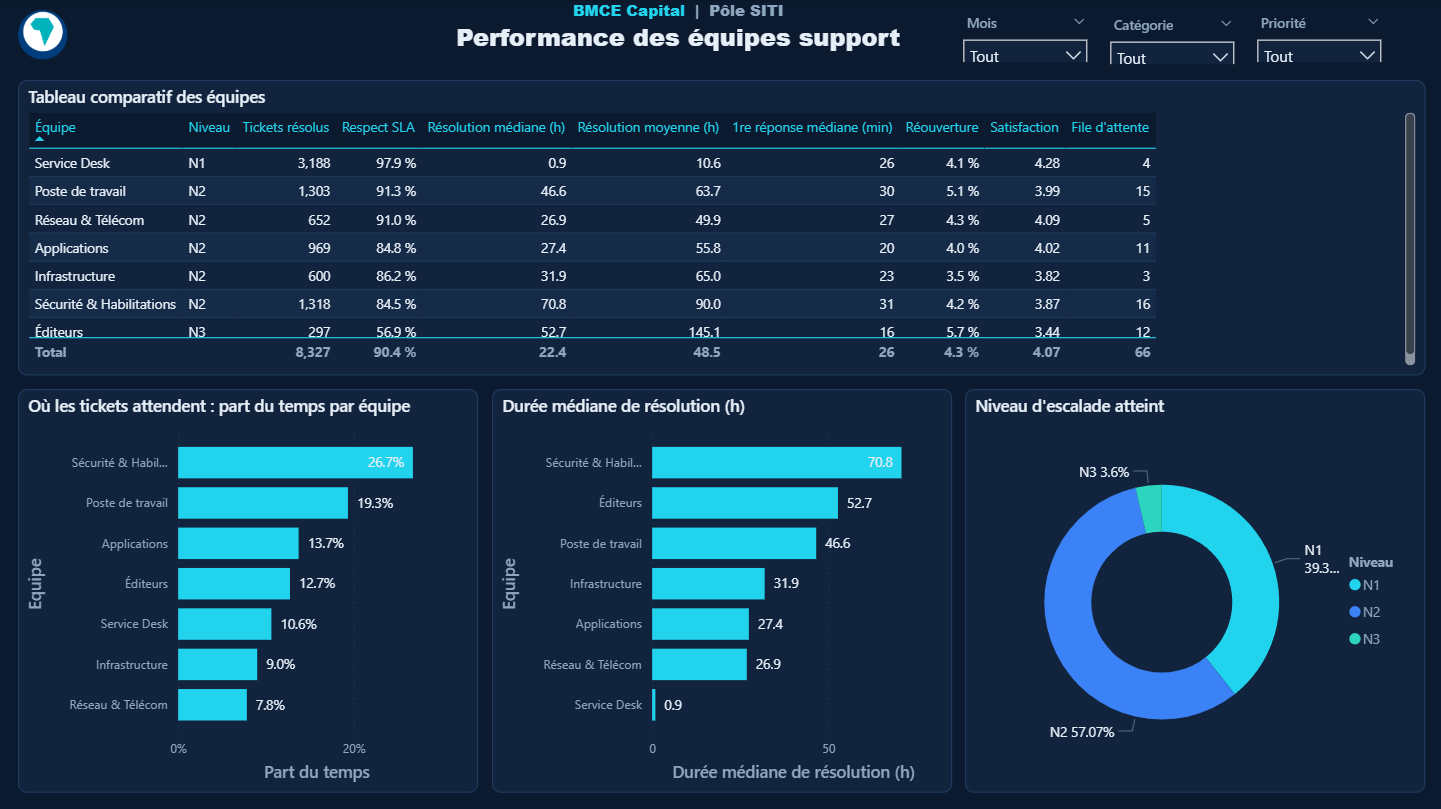

The dashboard page shown, as its layout file describes it:
{"tool":"powerbi","page":{"name":"Performance des équipes","canvas":[1280,720],"ordinal":1},"visuals":[{"type":"image","box":[16,10,44,44],"z":0},{"type":"textbox","box":[371.9,0,459.7,68],"z":1000},{"type":"slicer","fields":{"Values":["Dim_Date.mois_annee"]},"box":[843.9,8.2,130.4,48],"z":2000},{"type":"slicer","fields":{"Values":["Dim_Categorie.categorie"]},"box":[974.3,9.6,130.4,48],"z":3000},{"type":"slicer","fields":{"Values":["Dim_Priorite.priorite"]},"box":[1104.6,8.2,130.4,48],"z":4000},{"type":"tableEx","title":"Tableau comparatif des équipes","fields":{"Values":["Dim_Equipe.equipe_courte","Dim_Equipe.niveau","Mesures.Tickets résolus","Mesures.Respect SLA %","Mesures.Durée médiane de résolution (h)","Mesures.Durée moyenne de résolution (h)","Mesures.Délai médian 1re réponse (min)","Mesures.Taux de réouverture %","Mesures.Satisfaction moyenne","Mesures.File d'attente"]},"box":[16,72,1248,262],"z":5000},{"type":"clusteredBarChart","title":"Où les tickets attendent : part du temps par équipe","fields":{"Category":["Dim_Equipe.equipe_courte"],"Y":["Mesures.Part du temps - tickets filtrés %"]},"box":[16,346,408,358],"z":6000},{"type":"clusteredBarChart","title":"Durée médiane de résolution (h)","fields":{"Category":["Dim_Equipe.equipe_courte"],"Y":["Mesures.Durée médiane de résolution (h)"]},"box":[436,346,408,358],"z":7000},{"type":"donutChart","title":"Niveau d''escalade atteint","fields":{"Category":["Fait_Tickets.niveau_escalade"],"Y":["Mesures.Tickets créés"]},"box":[856,346,408,358],"z":8000}]}

Visuals, with their boxes in screenshot pixels (x1, y1, x2, y2), scaled from the page's 1280x720 canvas onto the 1441x809 screenshot:
image: l=18, t=11, r=68, b=61
textbox: l=419, t=0, r=936, b=76
slicer - Dim_Date.mois_annee: l=950, t=9, r=1097, b=63
slicer - Dim_Categorie.categorie: l=1097, t=11, r=1244, b=65
slicer - Dim_Priorite.priorite: l=1244, t=9, r=1390, b=63
"Tableau comparatif des équipes" tableEx: l=18, t=81, r=1423, b=375
"Où les tickets attendent : part du temps par équipe" clusteredBarChart: l=18, t=389, r=477, b=791
"Durée médiane de résolution (h)" clusteredBarChart: l=491, t=389, r=950, b=791
"Niveau d''escalade atteint" donutChart: l=964, t=389, r=1423, b=791
